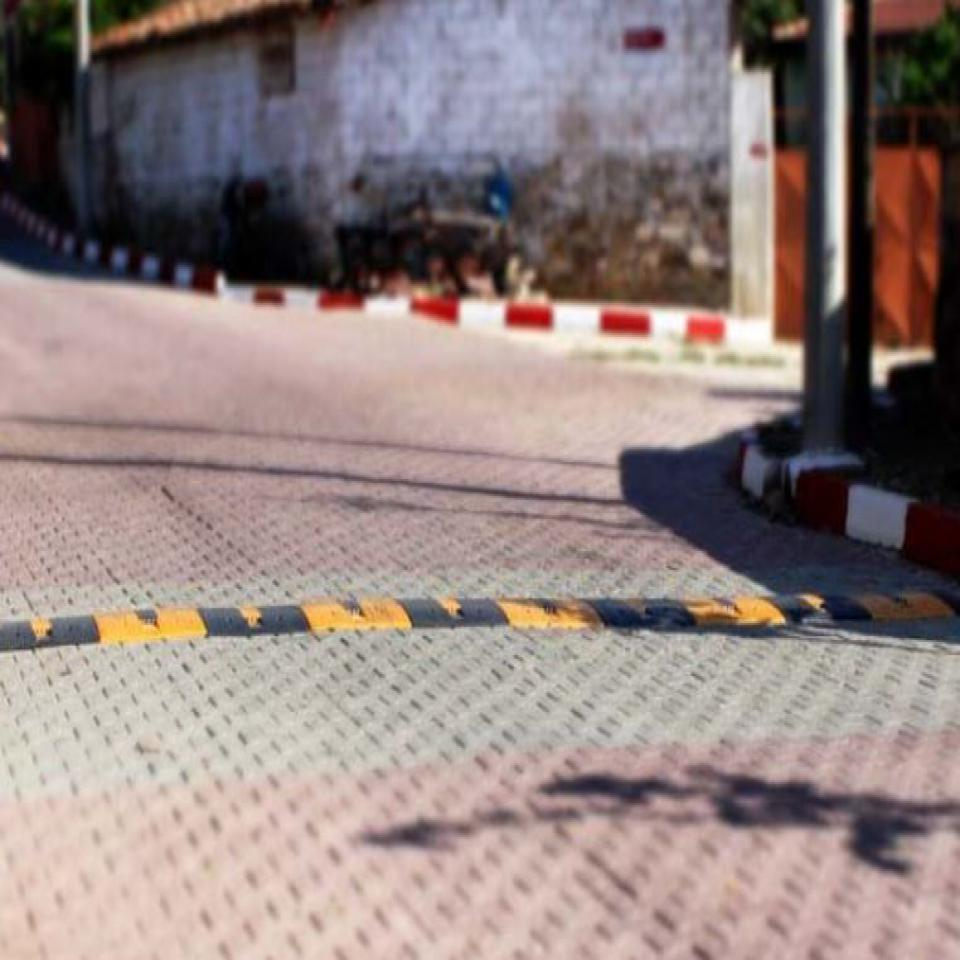speedbreaker: (0, 604, 943, 624)
